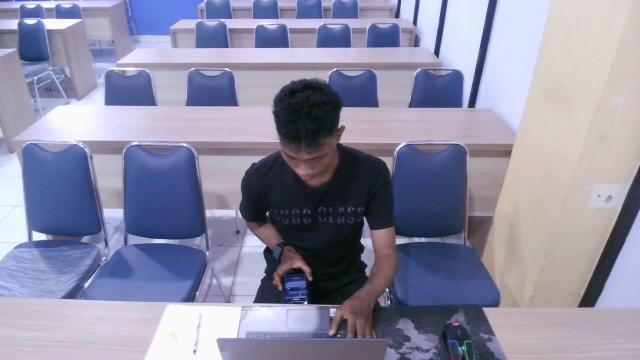Head_Down_Extreme: (229, 70, 404, 336)
Mobile_Phone: (279, 272, 313, 307)
